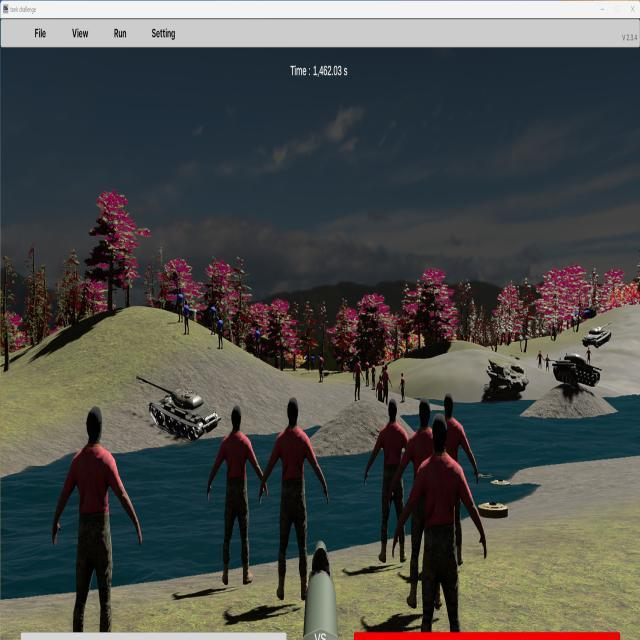Human: (393, 408, 487, 639), (52, 405, 142, 632), (388, 398, 481, 598), (259, 397, 329, 601), (415, 393, 483, 595), (207, 404, 268, 584), (363, 397, 419, 563)
Tank: (136, 375, 219, 442), (551, 353, 602, 388), (582, 321, 614, 348)
